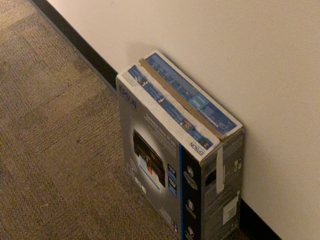Obstacle: (46, 1, 319, 239), (99, 46, 267, 236)
